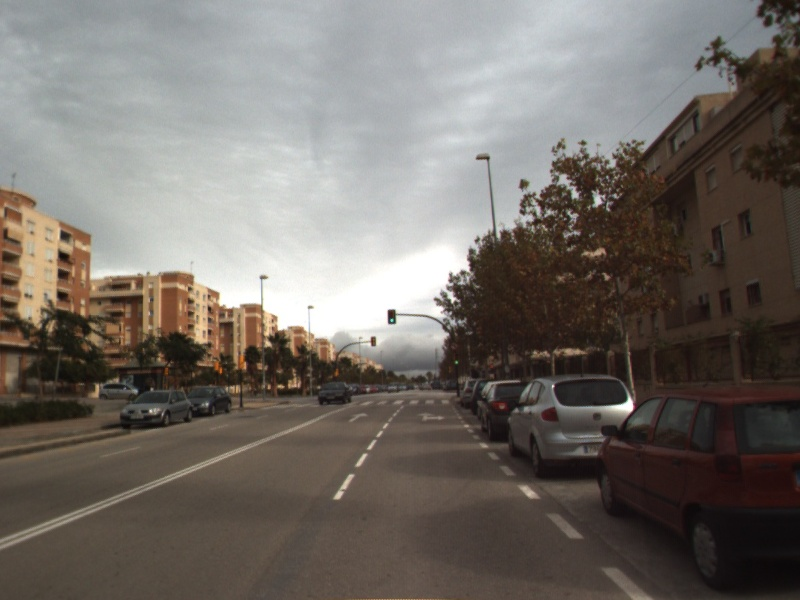STRAIGHT: (346, 410, 371, 424)
STRAIGHT_RIGHT: (415, 410, 447, 423)
